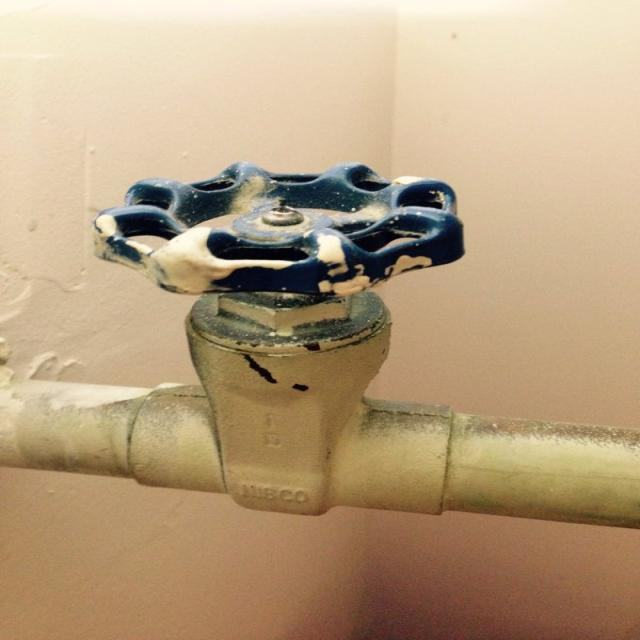Wheel Handle Valve Threaded: (93, 163, 465, 519)
